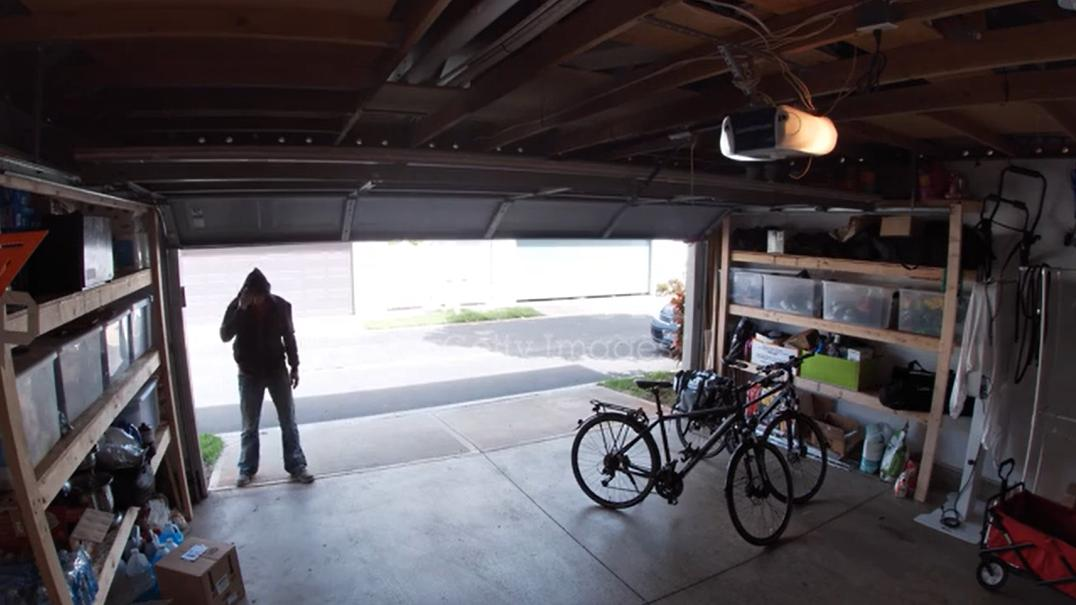bicycle: (526, 352, 805, 568), (666, 341, 847, 505)
